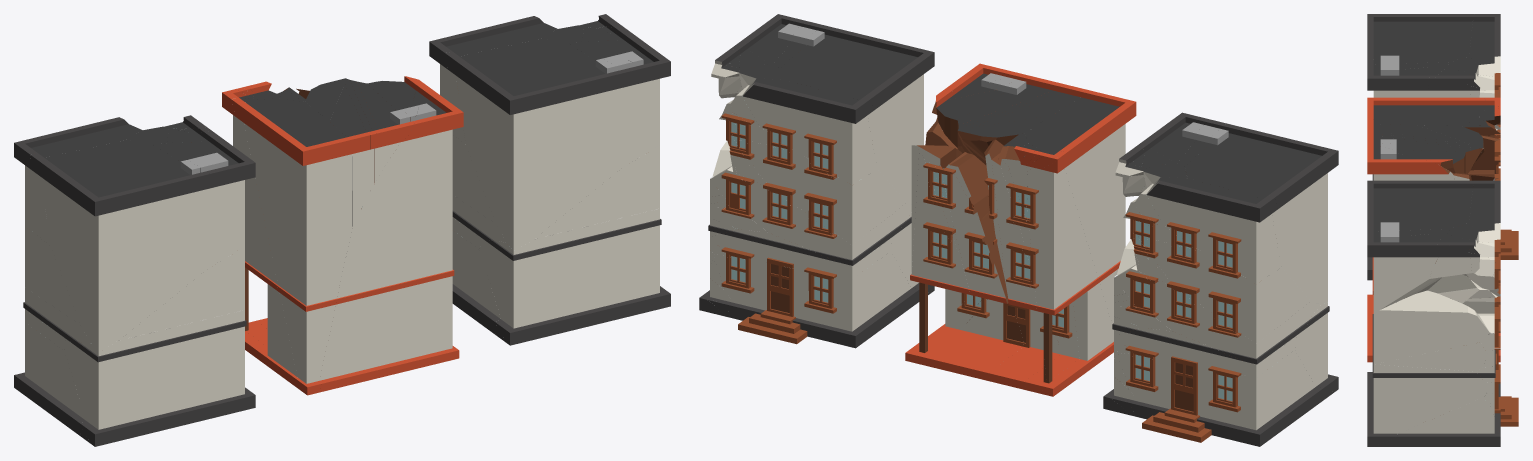
File: SupermarketBuildings 2.fbx
3 renders of one model, left to right at view 1: azimuth 30°, elevation 25°; view 2: azimuth 150°, elevation 25°; view 3: azimuth 270°, elevation 25°, orthographic. The views are drawn at different scales.
Visible parts, largest first — view 1: Flat1_cell.001; view 2: Flat1_cell.001; view 3: Flat1_cell.001.
Boxes of the visible parts, x1=… form: Flat1_cell.001: x1=14, y1=14, x2=670, y2=446; Flat1_cell.001: x1=699, y1=14, x2=1338, y2=446; Flat1_cell.001: x1=1367, y1=14, x2=1518, y2=446.
Size of the model in its own units: 40.96 by 16.72 by 11.31.
